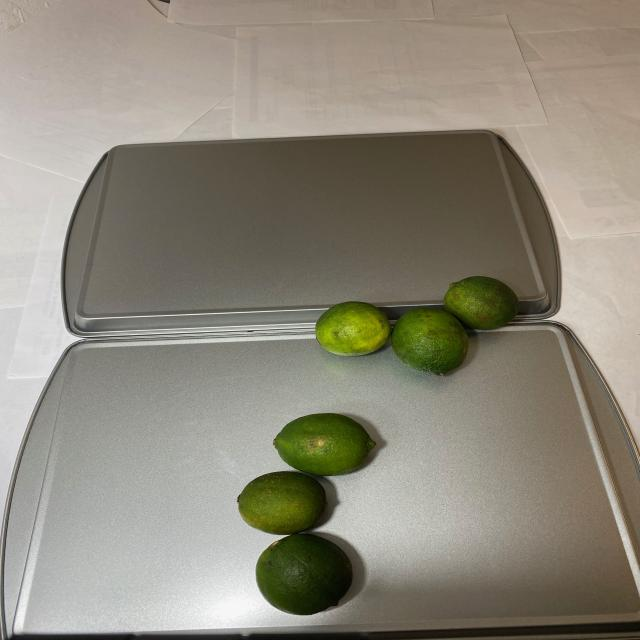lemon: (224, 399, 386, 617), (306, 275, 528, 381)
